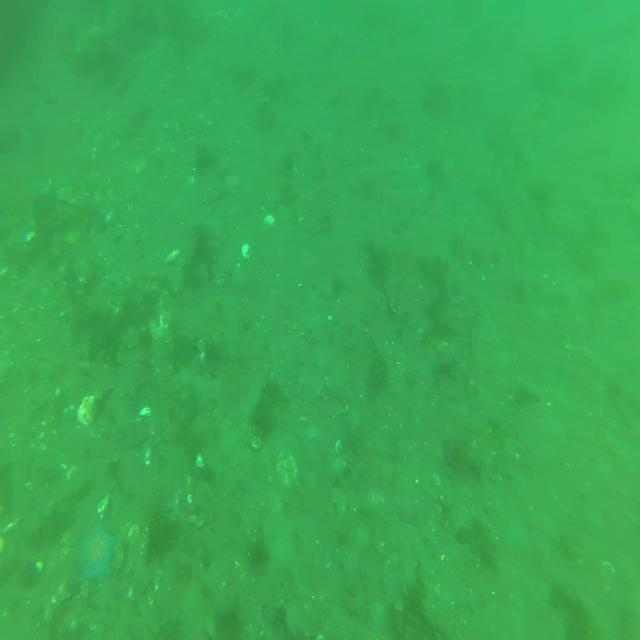starfish: (77, 517, 120, 579)
